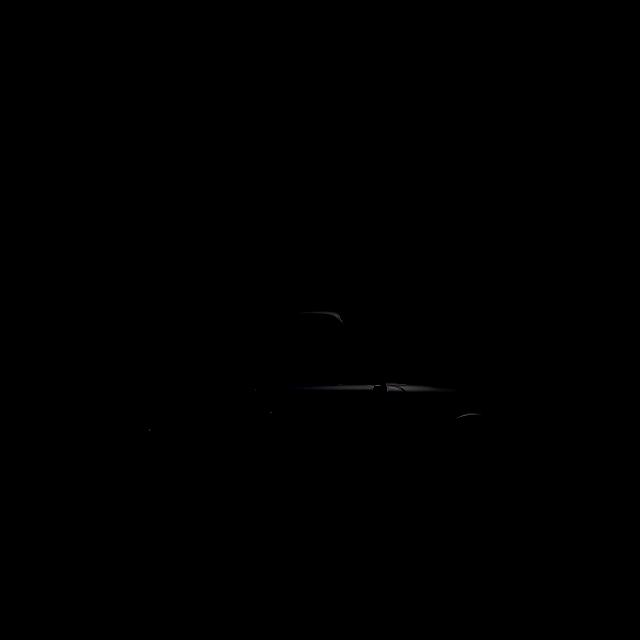Car: (54, 299, 558, 534)
